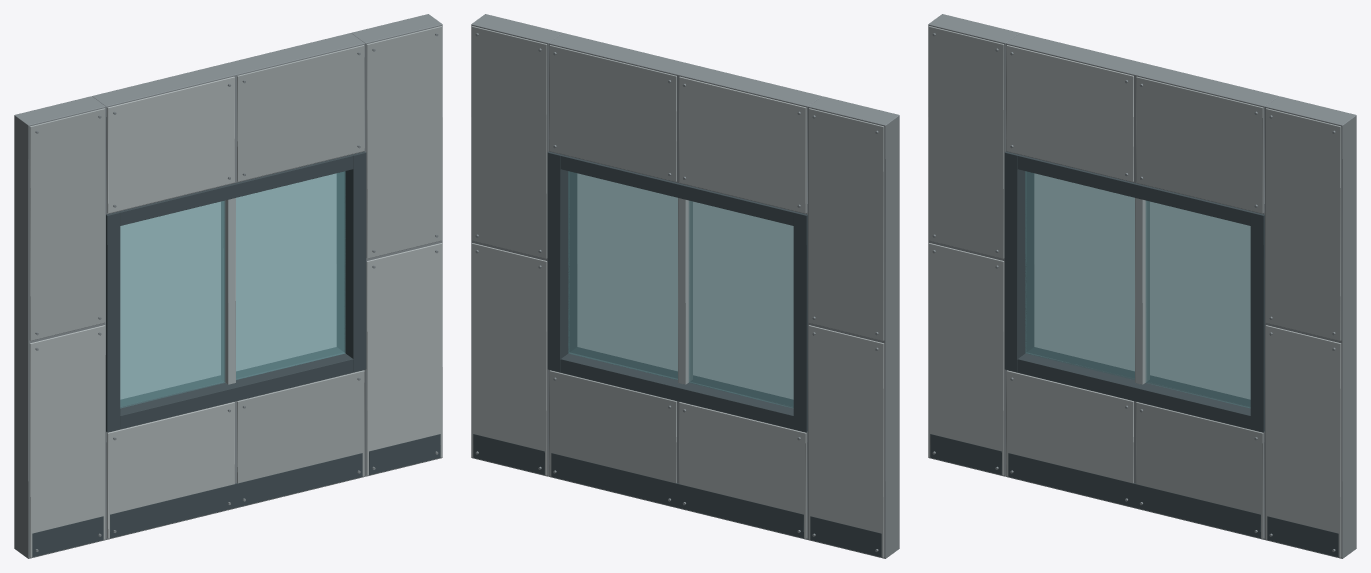
3 views of the same model, side by side, from view 1: azimuth 30°, elevation 25°; view 2: azimuth 150°, elevation 25°; view 3: azimuth 330°, elevation 25° (orthographic).
Parts seen in each view (by area): view 1: SM_NPP_Wall_Window_4m_A; view 2: SM_NPP_Wall_Window_4m_A; view 3: SM_NPP_Wall_Window_4m_A.
Part boxes in pixels (bbox=[...]): SM_NPP_Wall_Window_4m_A: bbox=[14, 14, 442, 558]; SM_NPP_Wall_Window_4m_A: bbox=[471, 14, 899, 558]; SM_NPP_Wall_Window_4m_A: bbox=[928, 14, 1356, 558].
Size of the model in its own units: 4 by 4 by 0.3.
